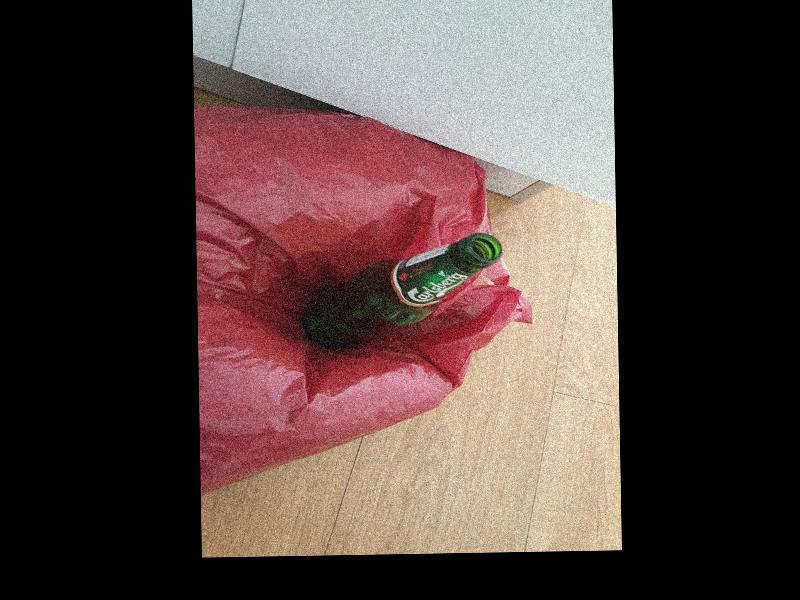Beer: (304, 233, 505, 351)
